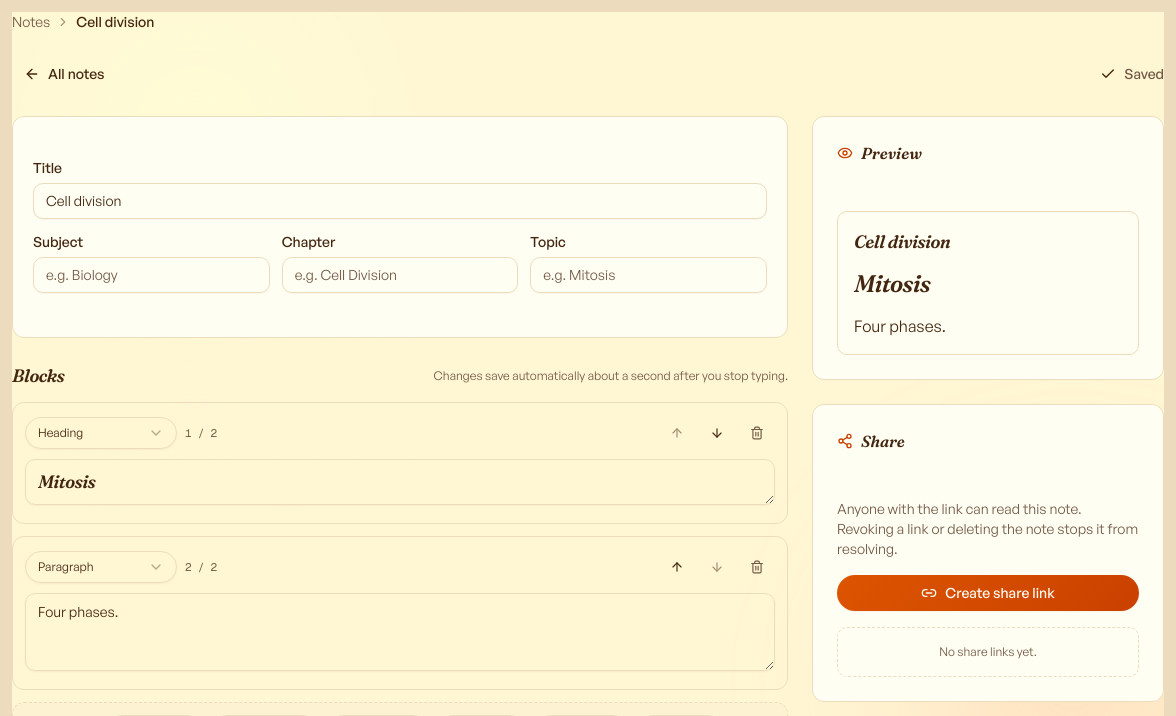
Scenario: NoteDetail › shows a failed status and a retry button when a save rejects
This screenshot has width=1176, height=716.
Replace the text in the field showing "Cell division" with "Offline edit" at x=400, y=201, box [33,183,767,219]
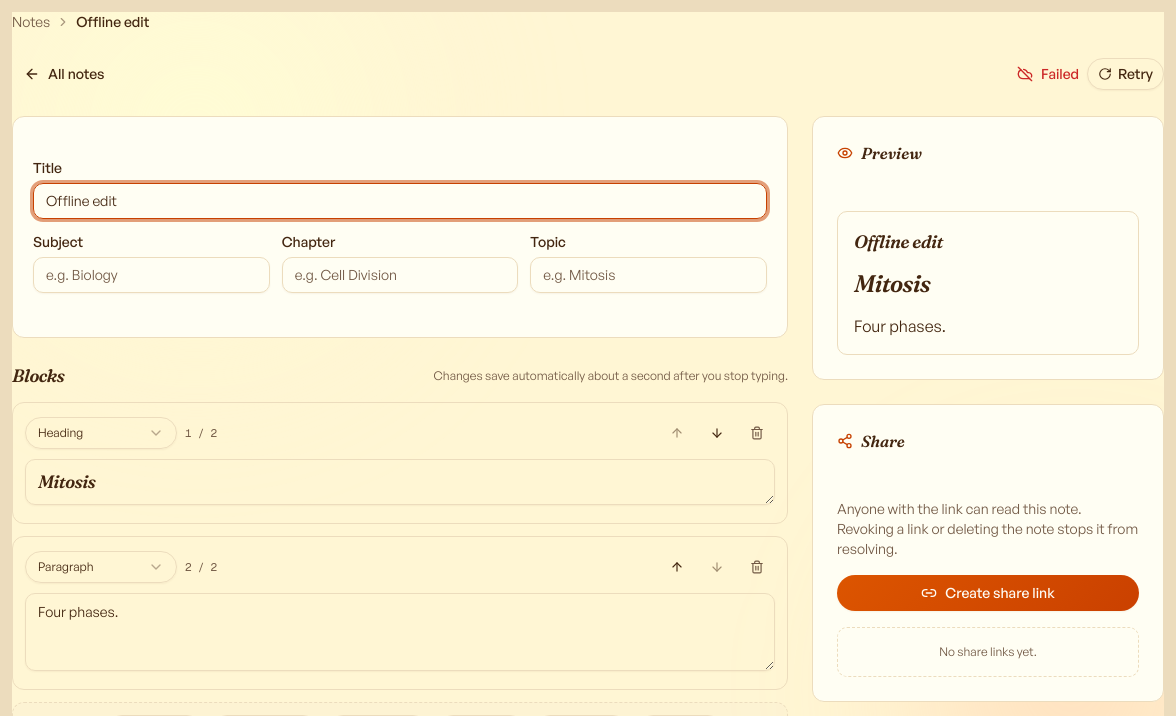
Expected: the text "Failed" is shown, [1041,64,1079,84]
Expected: the button "Retry" is shown, [1087,58,1164,90]
